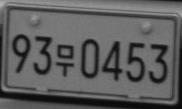0: (80, 38, 99, 78)
3: (147, 43, 168, 83), (33, 35, 52, 75)
4: (101, 40, 123, 81)
5: (125, 41, 145, 82)
9: (11, 33, 30, 73)
무: (56, 43, 74, 77)
